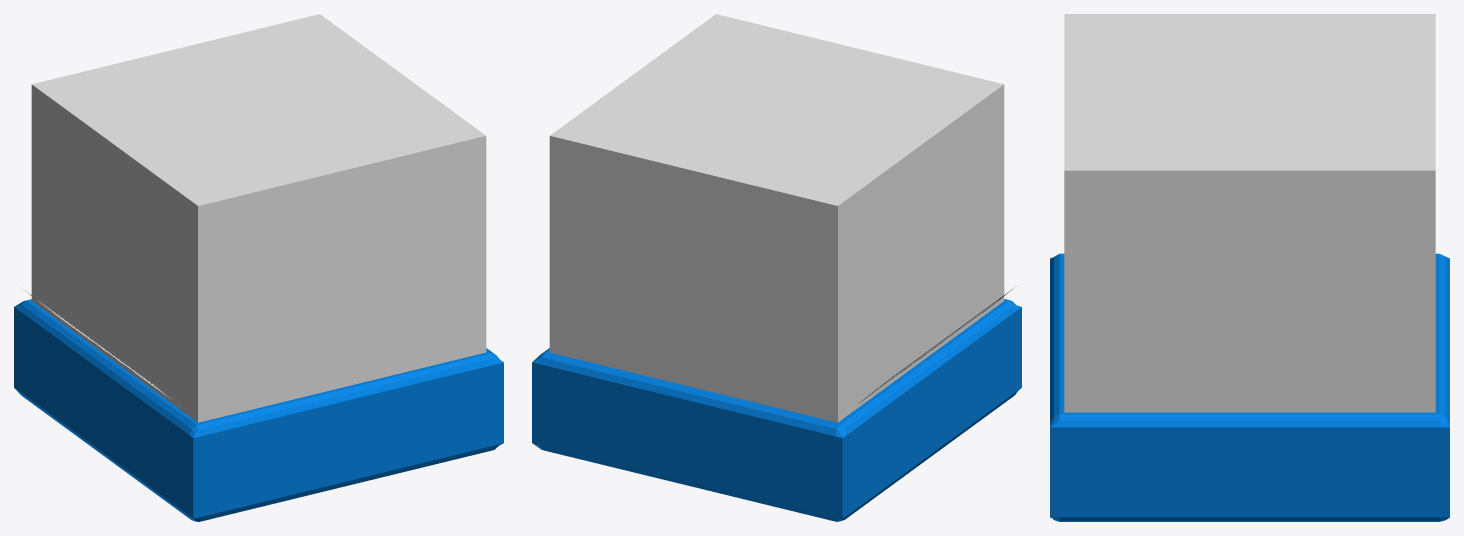
File: inbox.fbx
3 views of the same model, side by side, from view 1: azimuth 30°, elevation 25°; view 2: azimuth 150°, elevation 25°; view 3: azimuth 270°, elevation 25° (orthographic). The views are drawn at different scales.
Visible parts, largest first — view 1: Cube.001, Cube; view 2: Cube.001, Cube; view 3: Cube.001, Cube.
Part boxes in pixels (bbox=[...]): Cube.001: bbox=[31, 14, 486, 422]; Cube: bbox=[14, 299, 503, 521]; Cube.001: bbox=[549, 14, 1004, 422]; Cube: bbox=[532, 299, 1021, 521]; Cube.001: bbox=[1064, 14, 1435, 412]; Cube: bbox=[1050, 253, 1449, 521].
Size of the model in its own units: 213 by 193 by 200.
2 materials, 1 textured.
